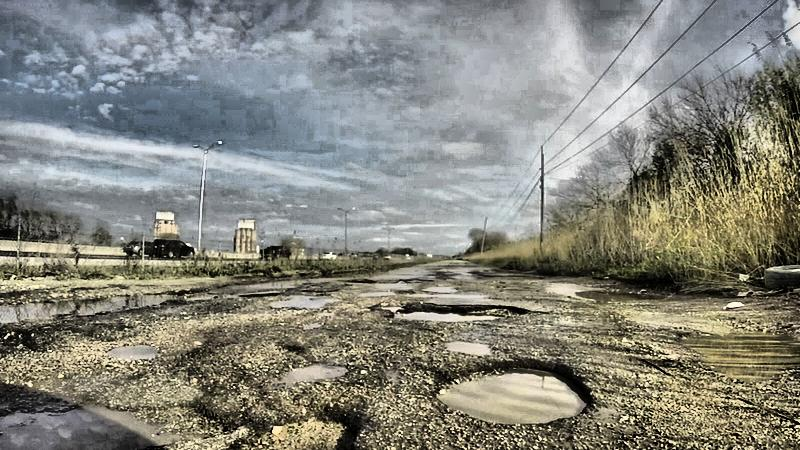pothole: (430, 358, 596, 432), (1, 406, 181, 450), (386, 301, 529, 329), (275, 360, 349, 390), (103, 338, 161, 368), (571, 286, 653, 306), (271, 293, 334, 314)
